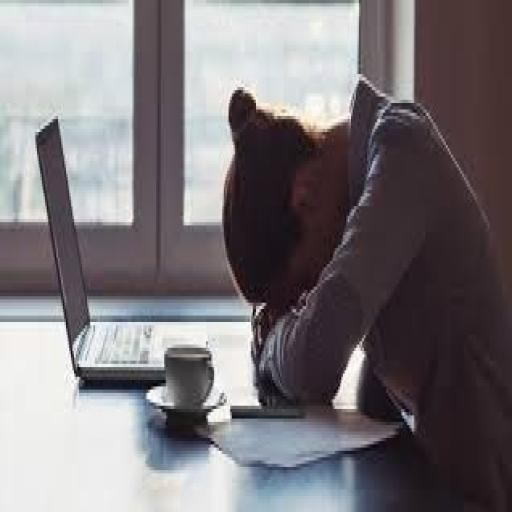sleeping: (219, 71, 510, 505)
